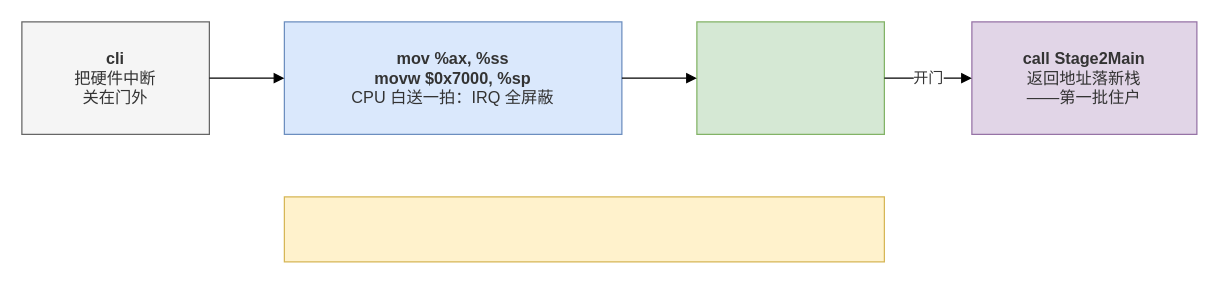
This 1219x284 diagram has some shape labels left out. The centre of each missing label's shape, as x and y in pixels:
"一拍合上 世界恢复 新栈立好" goes at (790,77).
"这一拍是 Intel 送的保险，不是咱们写的——换栈窗口天生就是锁着的" goes at (583,229).
